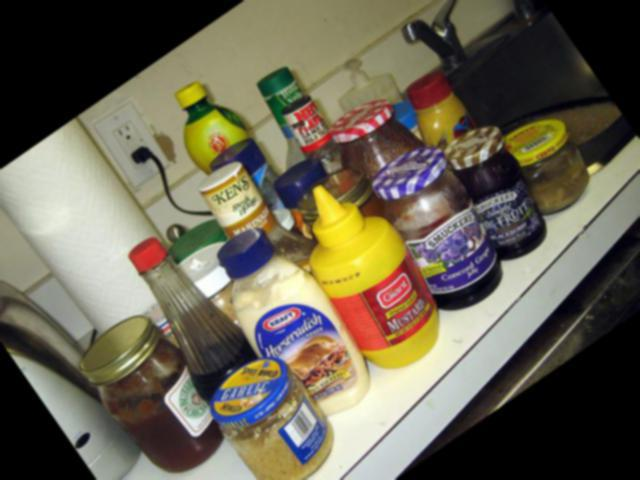Lavaplatos: (339, 0, 640, 259)
